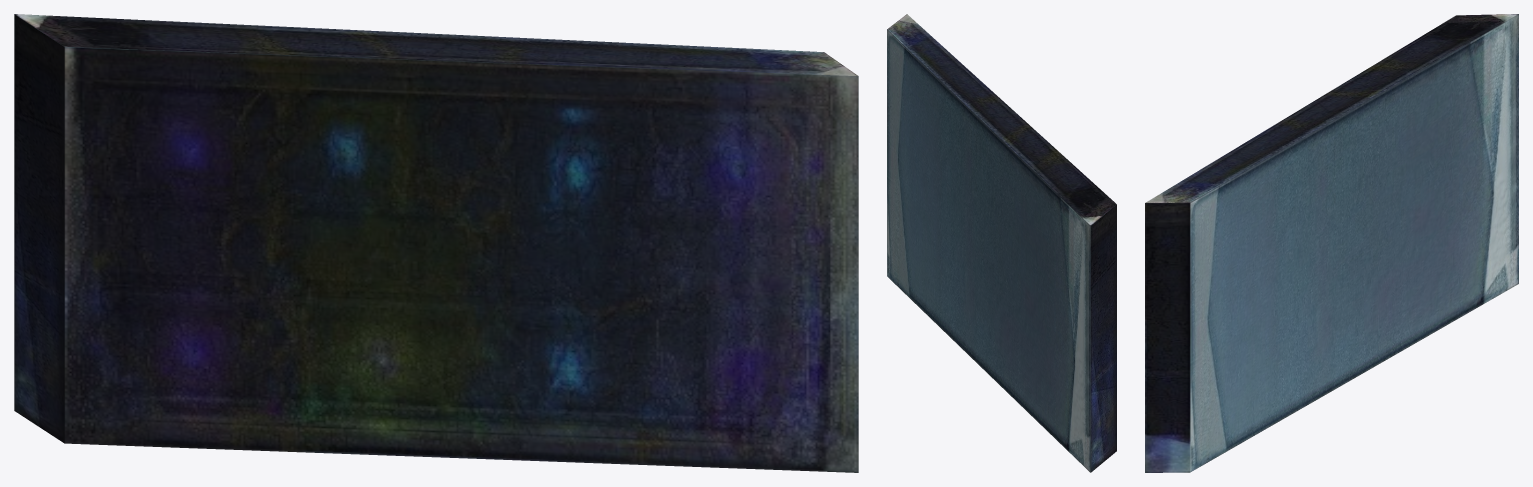
Rendered from murs_cible_left_lvl_4.glb.
3 renders of one model, left to right at view 1: azimuth 30°, elevation 25°; view 2: azimuth 150°, elevation 25°; view 3: azimuth 270°, elevation 25°, orthographic. The views are drawn at different scales.
Parts seen in each view (by area): view 1: Mesh_0.007; view 2: Mesh_0.007; view 3: Mesh_0.007.
Part boxes in pixels (x1=…): Mesh_0.007: x1=14, y1=14, x2=858, y2=472; Mesh_0.007: x1=887, y1=14, x2=1116, y2=472; Mesh_0.007: x1=1145, y1=14, x2=1518, y2=472.
Size of the model in its own units: 0.1347 by 0.0896 by 0.1125.
Materials: 1 (1 with a texture image).
